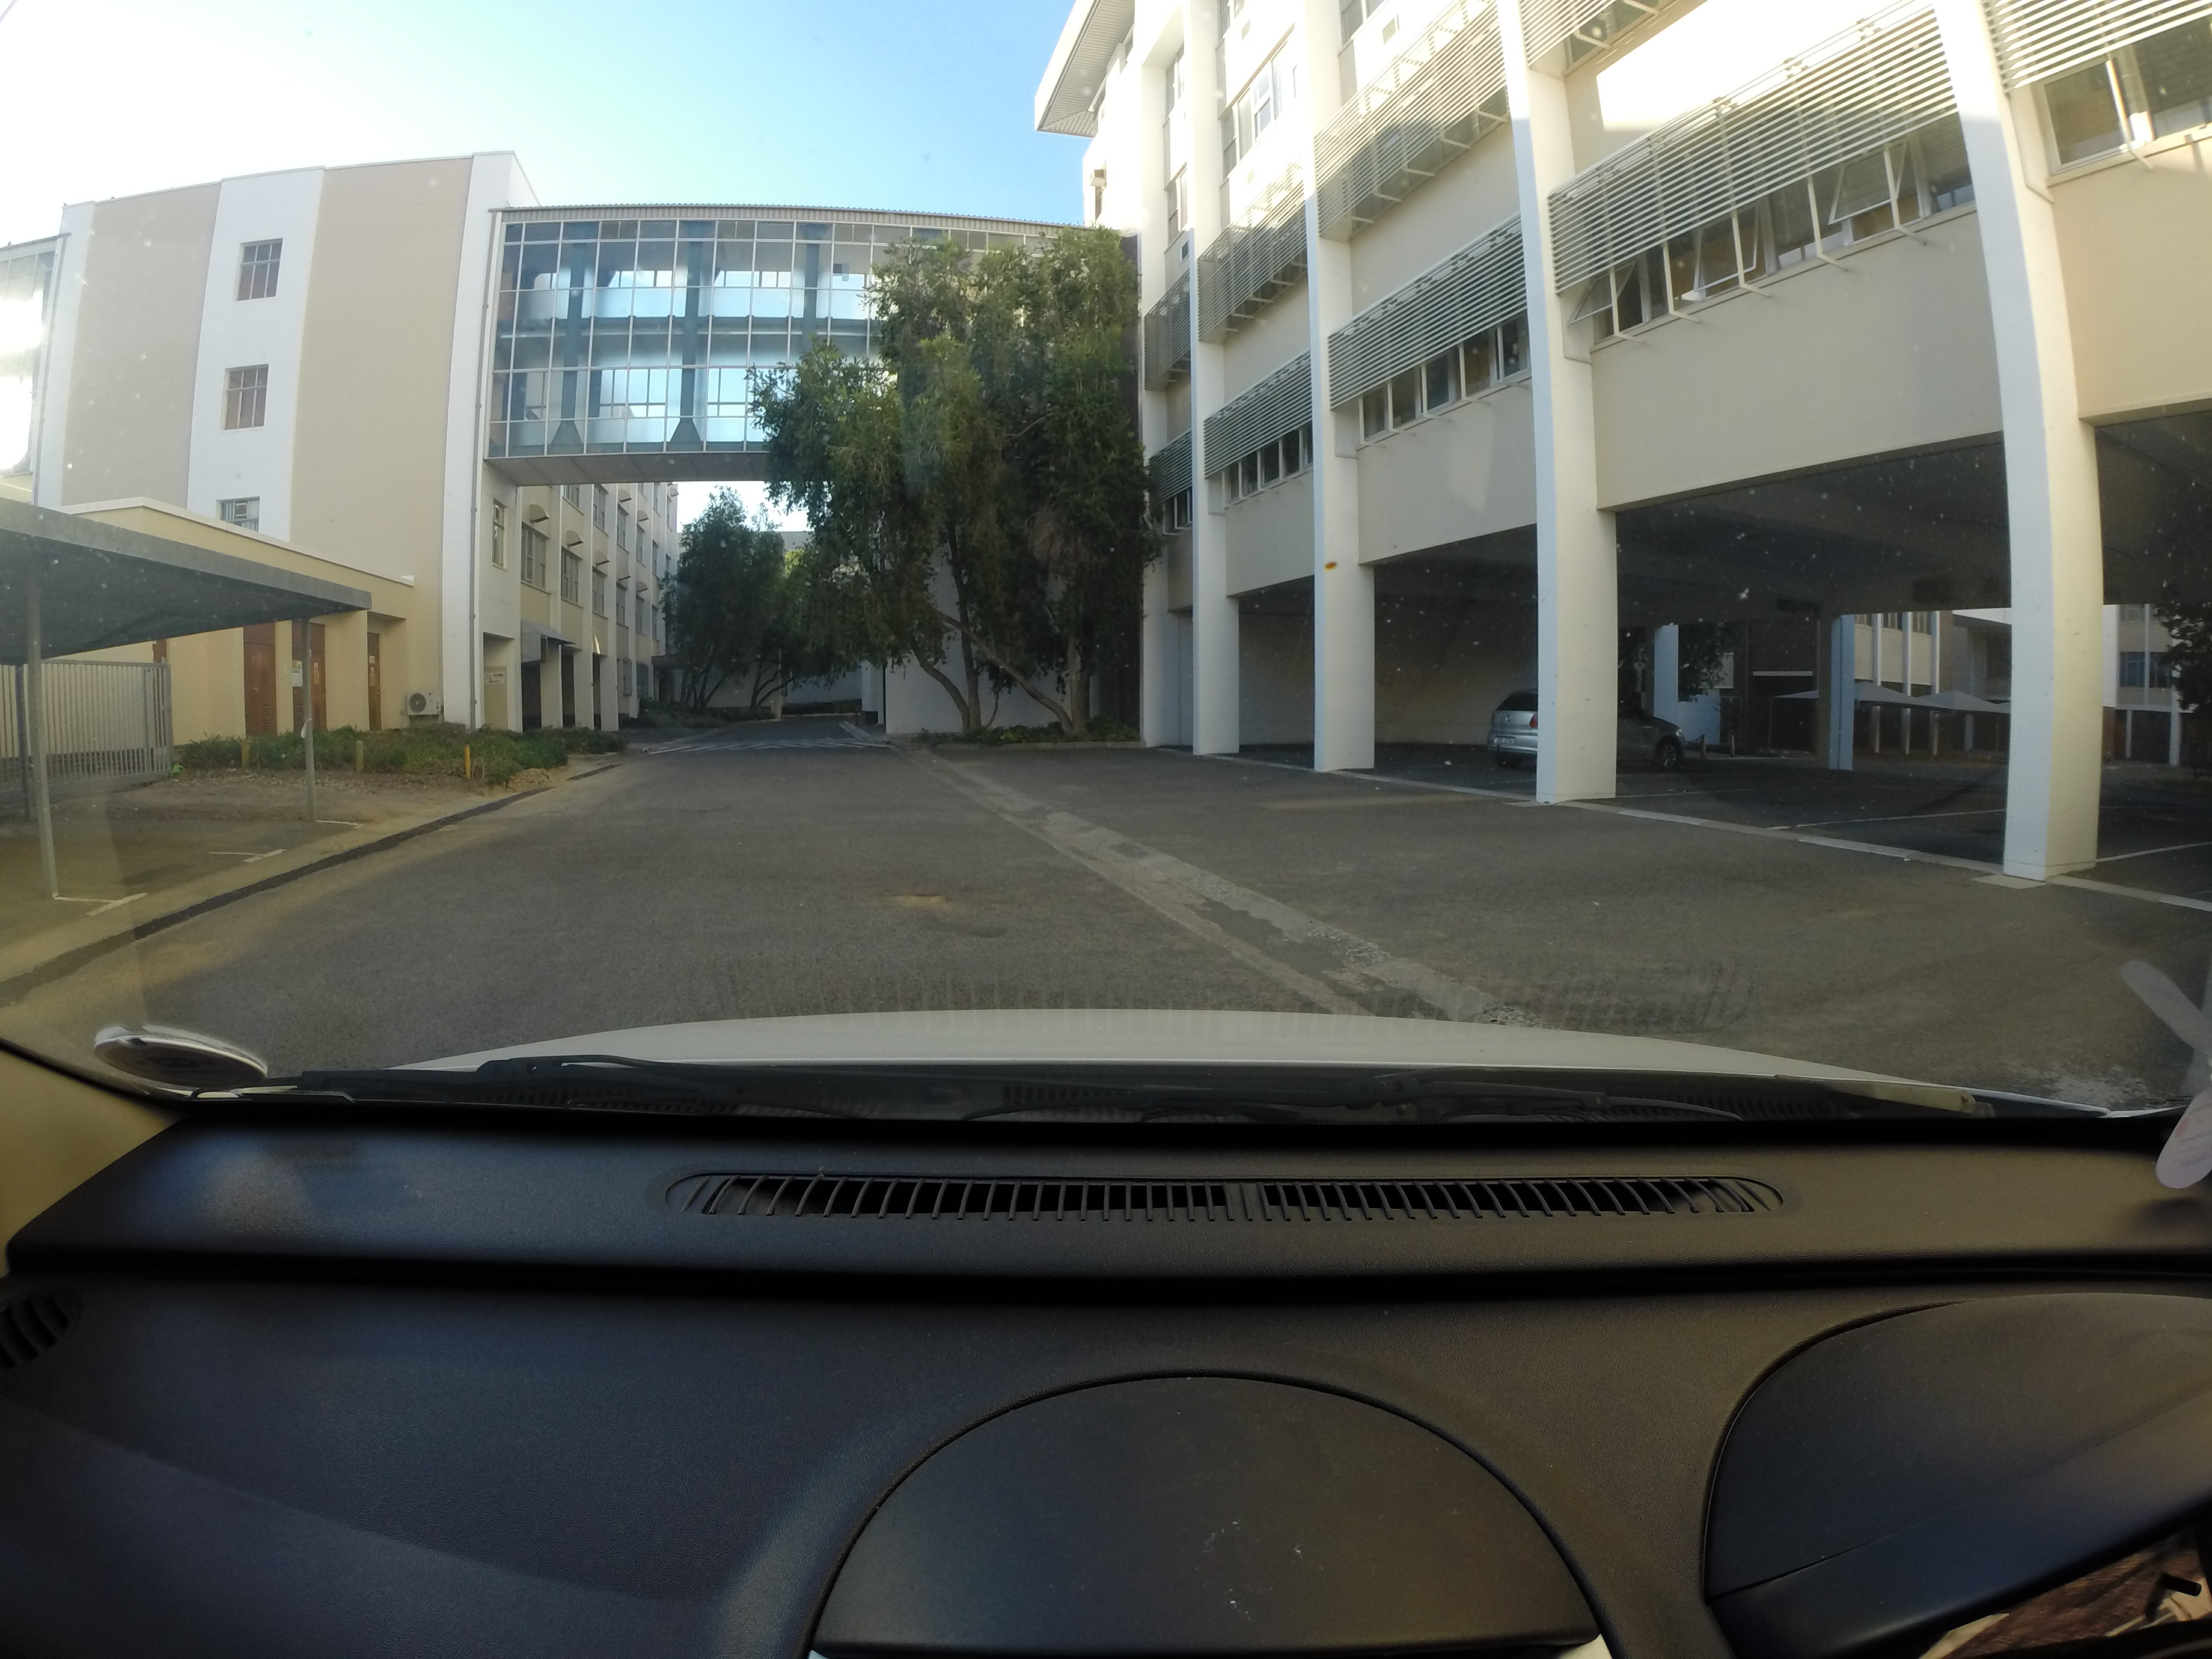pothole: (880, 887, 977, 913)
